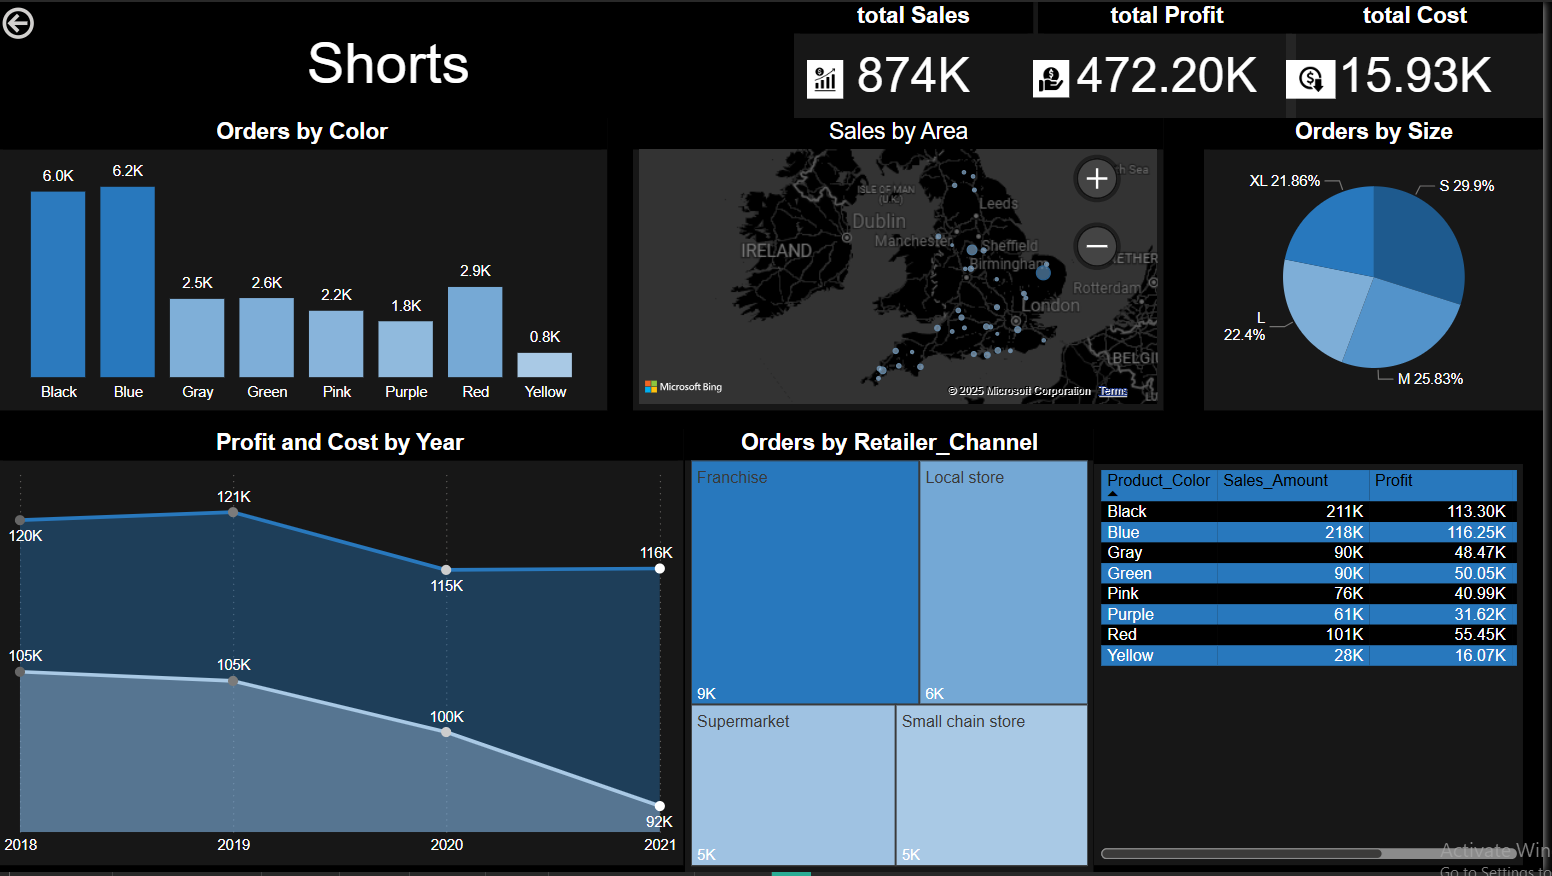

Layout of this report page (visuals, bound fields, positions):
{"tool":"powerbi","page":{"name":"Shorts","canvas":[1280,720],"ordinal":4},"visuals":[{"type":"card","fields":{"Values":["Table.Shorts"]},"box":[0,0,647.8,95.3],"z":0,"group":"g1"},{"type":"card","title":"total Sales","fields":{"Values":["Sum(Orders.Sales_Amount)"]},"box":[659.6,0,197.8,96],"z":0,"group":"g3"},{"type":"card","title":"total Profit","fields":{"Values":["Sum(Orders.Profit)"]},"box":[861.3,0,213.4,95.7],"z":0,"group":"g2"},{"type":"card","title":"total Cost","fields":{"Values":["Sum(Orders.Product_Cost)"]},"box":[1066.6,0,213.4,95.7],"z":0,"group":"g4"},{"type":"actionButton","box":[0,0,58,35.1],"z":1000,"group":"g1"},{"type":"image","box":[857.1,48.1,30.5,31.4],"z":1000,"group":"g2"},{"type":"image","box":[670.2,48.3,30.1,31.5],"z":1000,"group":"g3"},{"type":"image","box":[1066.6,48.3,41.3,31.6],"z":1000,"group":"g4"},{"type":"group","id":"g1","title":"Group 1","box":[0,0,647.8,95.3],"z":7000},{"type":"group","id":"g2","title":"Group 2","box":[857.1,0,217.5,95.7],"z":10001},{"type":"group","id":"g3","title":"Group 3","box":[659.6,0,197.8,96],"z":10002},{"type":"clusteredColumnChart","title":"Orders by Color","fields":{"Y":["Sum(Orders. Order_Quantity )"],"Category":["Products.Product_Color","Products.Product_Size"]},"box":[0,96,504.8,242.5],"z":10003},{"type":"tableEx","fields":{"Values":["Products.Product_Color","Sum(Orders.Sales_Amount)","Sum(Orders.Profit)","Sum(Orders.Cost_of_Goods_Sold)"]},"box":[907.9,382.3,355,331.9],"z":10004},{"type":"areaChart","title":"Profit and Cost by Year","fields":{"Category":["Orders.Order_Date.Variation.Date Hierarchy.Year","Orders.Order_Date.Variation.Date Hierarchy.Month"],"Y":["Sum(Orders.Profit)","Sum(Orders.Cost_of_Goods_Sold)"]},"box":[0,353.6,567.5,360.5],"z":10005},{"type":"treemap","title":"  Orders  by Retailer_Channel","fields":{"Values":["Sum(Orders. Order_Quantity )"],"Group":["Retailers.Retailer_Channel","Products.Product_Size"]},"box":[569.4,353.4,338.5,366.6],"z":10006},{"type":"pieChart","title":" Orders by Size","fields":{"Y":["Sum(Orders. Order_Quantity )"],"Category":["Products.Product_Size"]},"box":[998.8,95.7,281.2,242.4],"z":10007},{"type":"group","id":"g4","title":"Group 4","box":[1066.6,0,213.4,95.7],"z":10008},{"type":"map","title":" Sales by Area","fields":{"Size":["Sum(Orders.Sales_Amount)"],"Category":["Retailers.City","Retailers.Area"]},"box":[526.3,96,439.4,242.5],"z":10009}]}

Visuals, with their boxes in screenshot pixels (x1, y1, x2, y2), scaled from the page's 1280x720 canvas onto the 1552x876 screenshot:
card - Table.Shorts: x1=0, y1=0, x2=785, y2=116
"total Sales" card: x1=800, y1=0, x2=1040, y2=117
"total Profit" card: x1=1044, y1=0, x2=1303, y2=116
"total Cost" card: x1=1293, y1=0, x2=1551, y2=116
actionButton: x1=0, y1=0, x2=70, y2=43
image: x1=1039, y1=59, x2=1076, y2=97
image: x1=813, y1=59, x2=849, y2=97
image: x1=1293, y1=59, x2=1343, y2=97
"Group 1" group: x1=0, y1=0, x2=785, y2=116
"Group 2" group: x1=1039, y1=0, x2=1303, y2=116
"Group 3" group: x1=800, y1=0, x2=1040, y2=117
"Orders by Color" clusteredColumnChart: x1=0, y1=117, x2=612, y2=412
tableEx - Products.Product_Color x Sum(Orders.Sales_Amount): x1=1101, y1=465, x2=1531, y2=869
"Profit and Cost by Year" areaChart: x1=0, y1=430, x2=688, y2=869
"  Orders  by Retailer_Channel" treemap: x1=690, y1=430, x2=1101, y2=875
" Orders by Size" pieChart: x1=1211, y1=116, x2=1551, y2=411
"Group 4" group: x1=1293, y1=0, x2=1551, y2=116
" Sales by Area" map: x1=638, y1=117, x2=1171, y2=412
